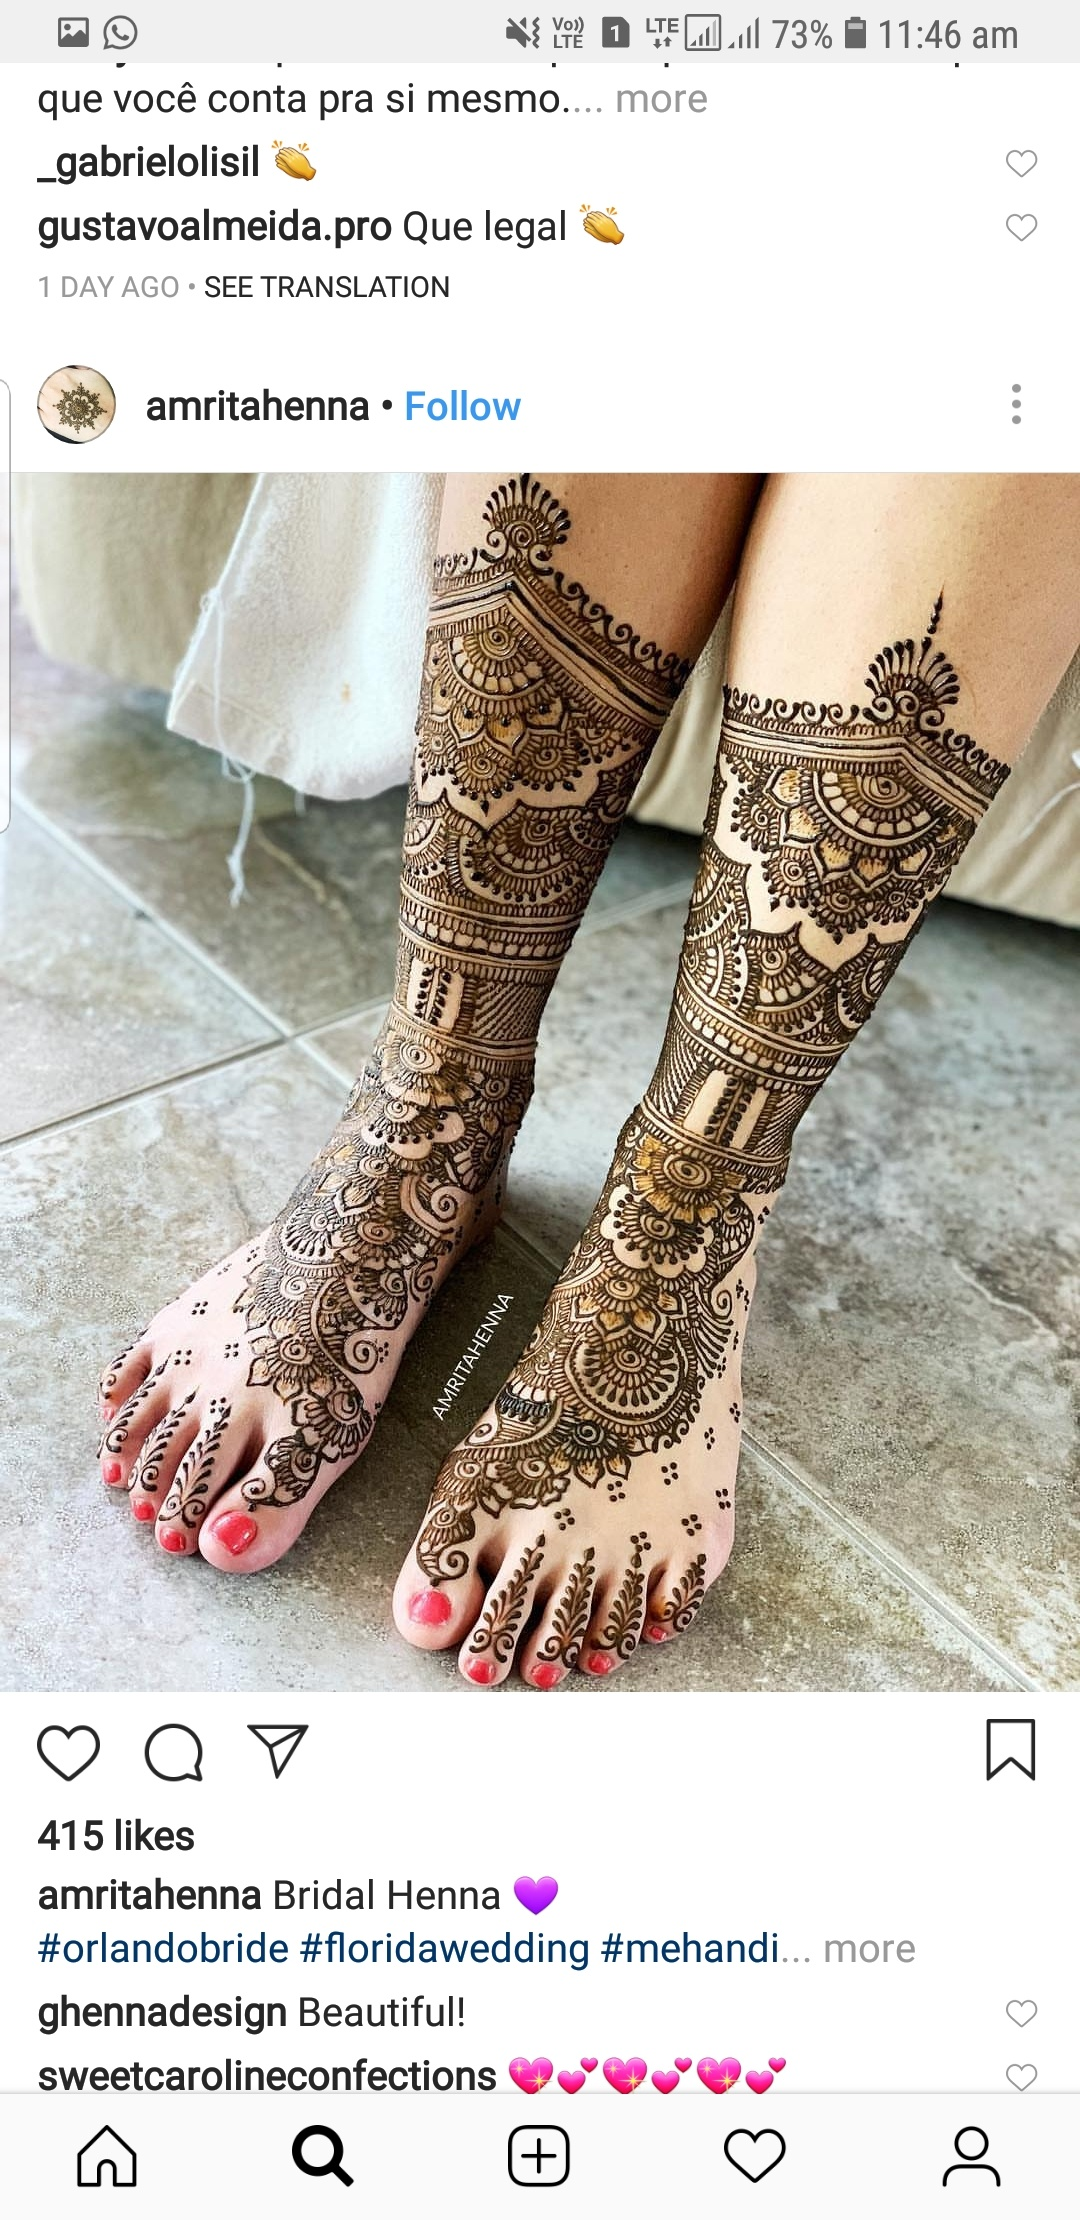feet: (371, 1172, 762, 1665), (108, 1065, 449, 1545)
